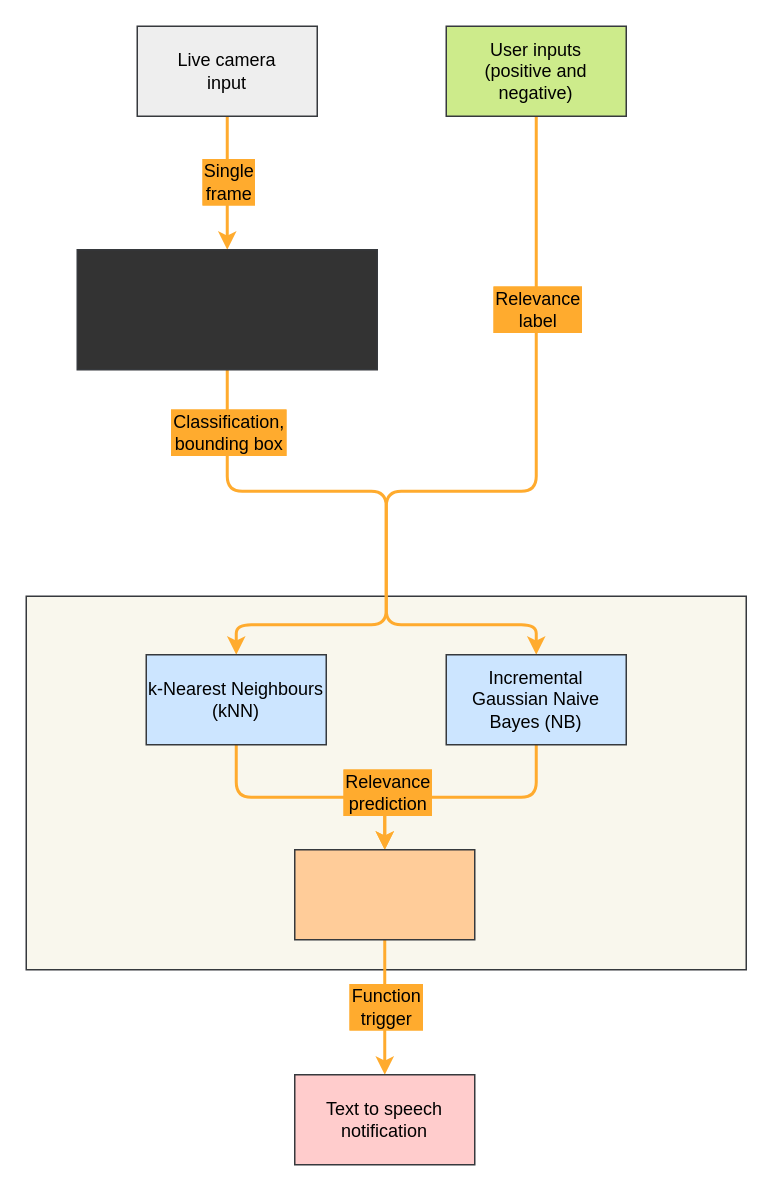
Some shapes in this 773 by 1191 pixel diagram are drawn without their labels. Here are the shapes that lost their labels. From the top down, the box of each, then its label:
(76, 248, 377, 370): Perception layer: Generic computer vision model (YOLOv5 in demo)
(25, 595, 746, 970): Feature layer: Online learning relevance prediction model
(293, 848, 475, 940): Average soft voting
